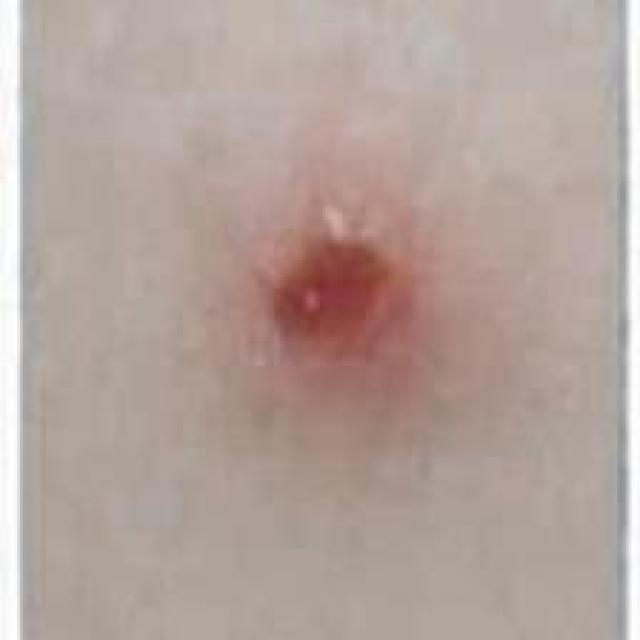others: (69, 12, 602, 640)
